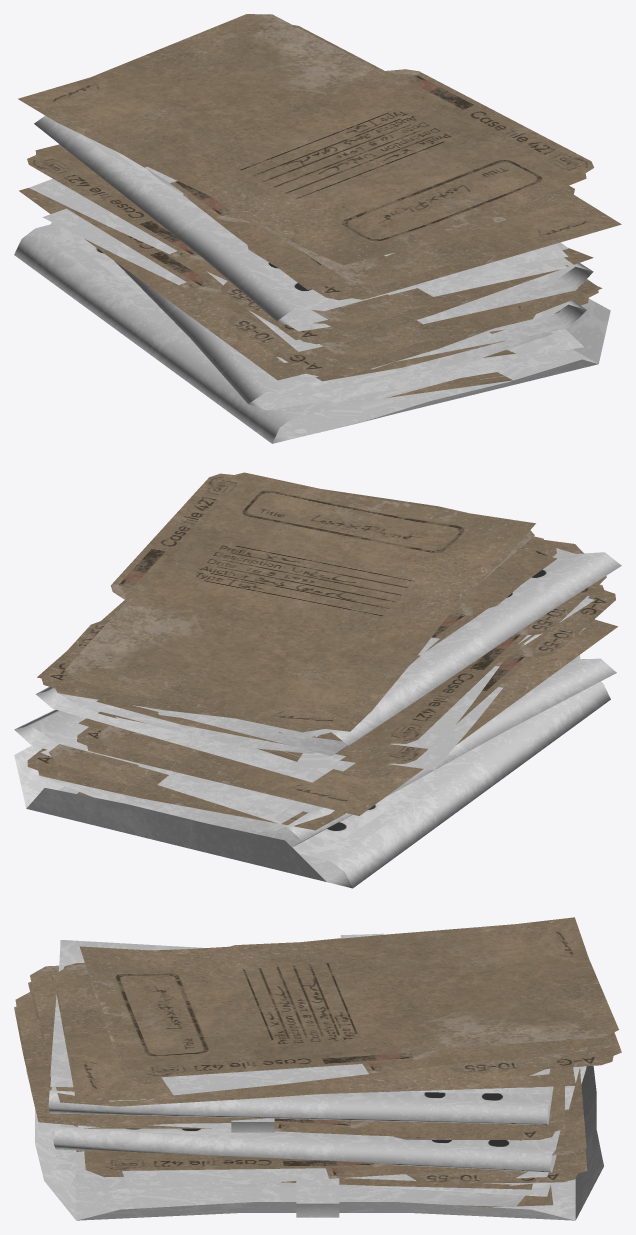
Rendered from SM_File_Pocket7.fbx.
The picture shows the model from 3 angles, top to bottom: view 1: azimuth 30°, elevation 25°; view 2: azimuth 150°, elevation 25°; view 3: azimuth 270°, elevation 25°; orthographic projection. The views are drawn at different scales.
Parts seen in each view (by area): view 1: SM_File_Pocket7_LOD0; view 2: SM_File_Pocket7_LOD0; view 3: SM_File_Pocket7_LOD0.
Part boxes in pixels (x1,y1,x2,y2): SM_File_Pocket7_LOD0: (14, 14, 621, 443); SM_File_Pocket7_LOD0: (14, 472, 621, 888); SM_File_Pocket7_LOD0: (14, 917, 621, 1220).
Bounding box in the file's own units: 42.48 × 57.35 × 16.78.
1 material, 1 textured.
